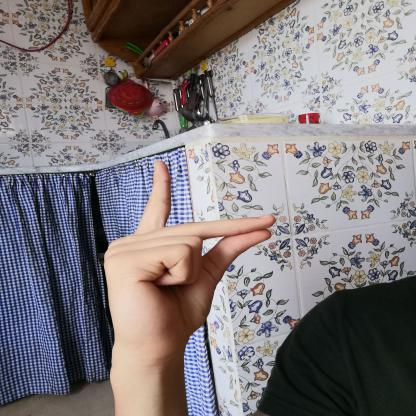TAA: (86, 152, 288, 366)
